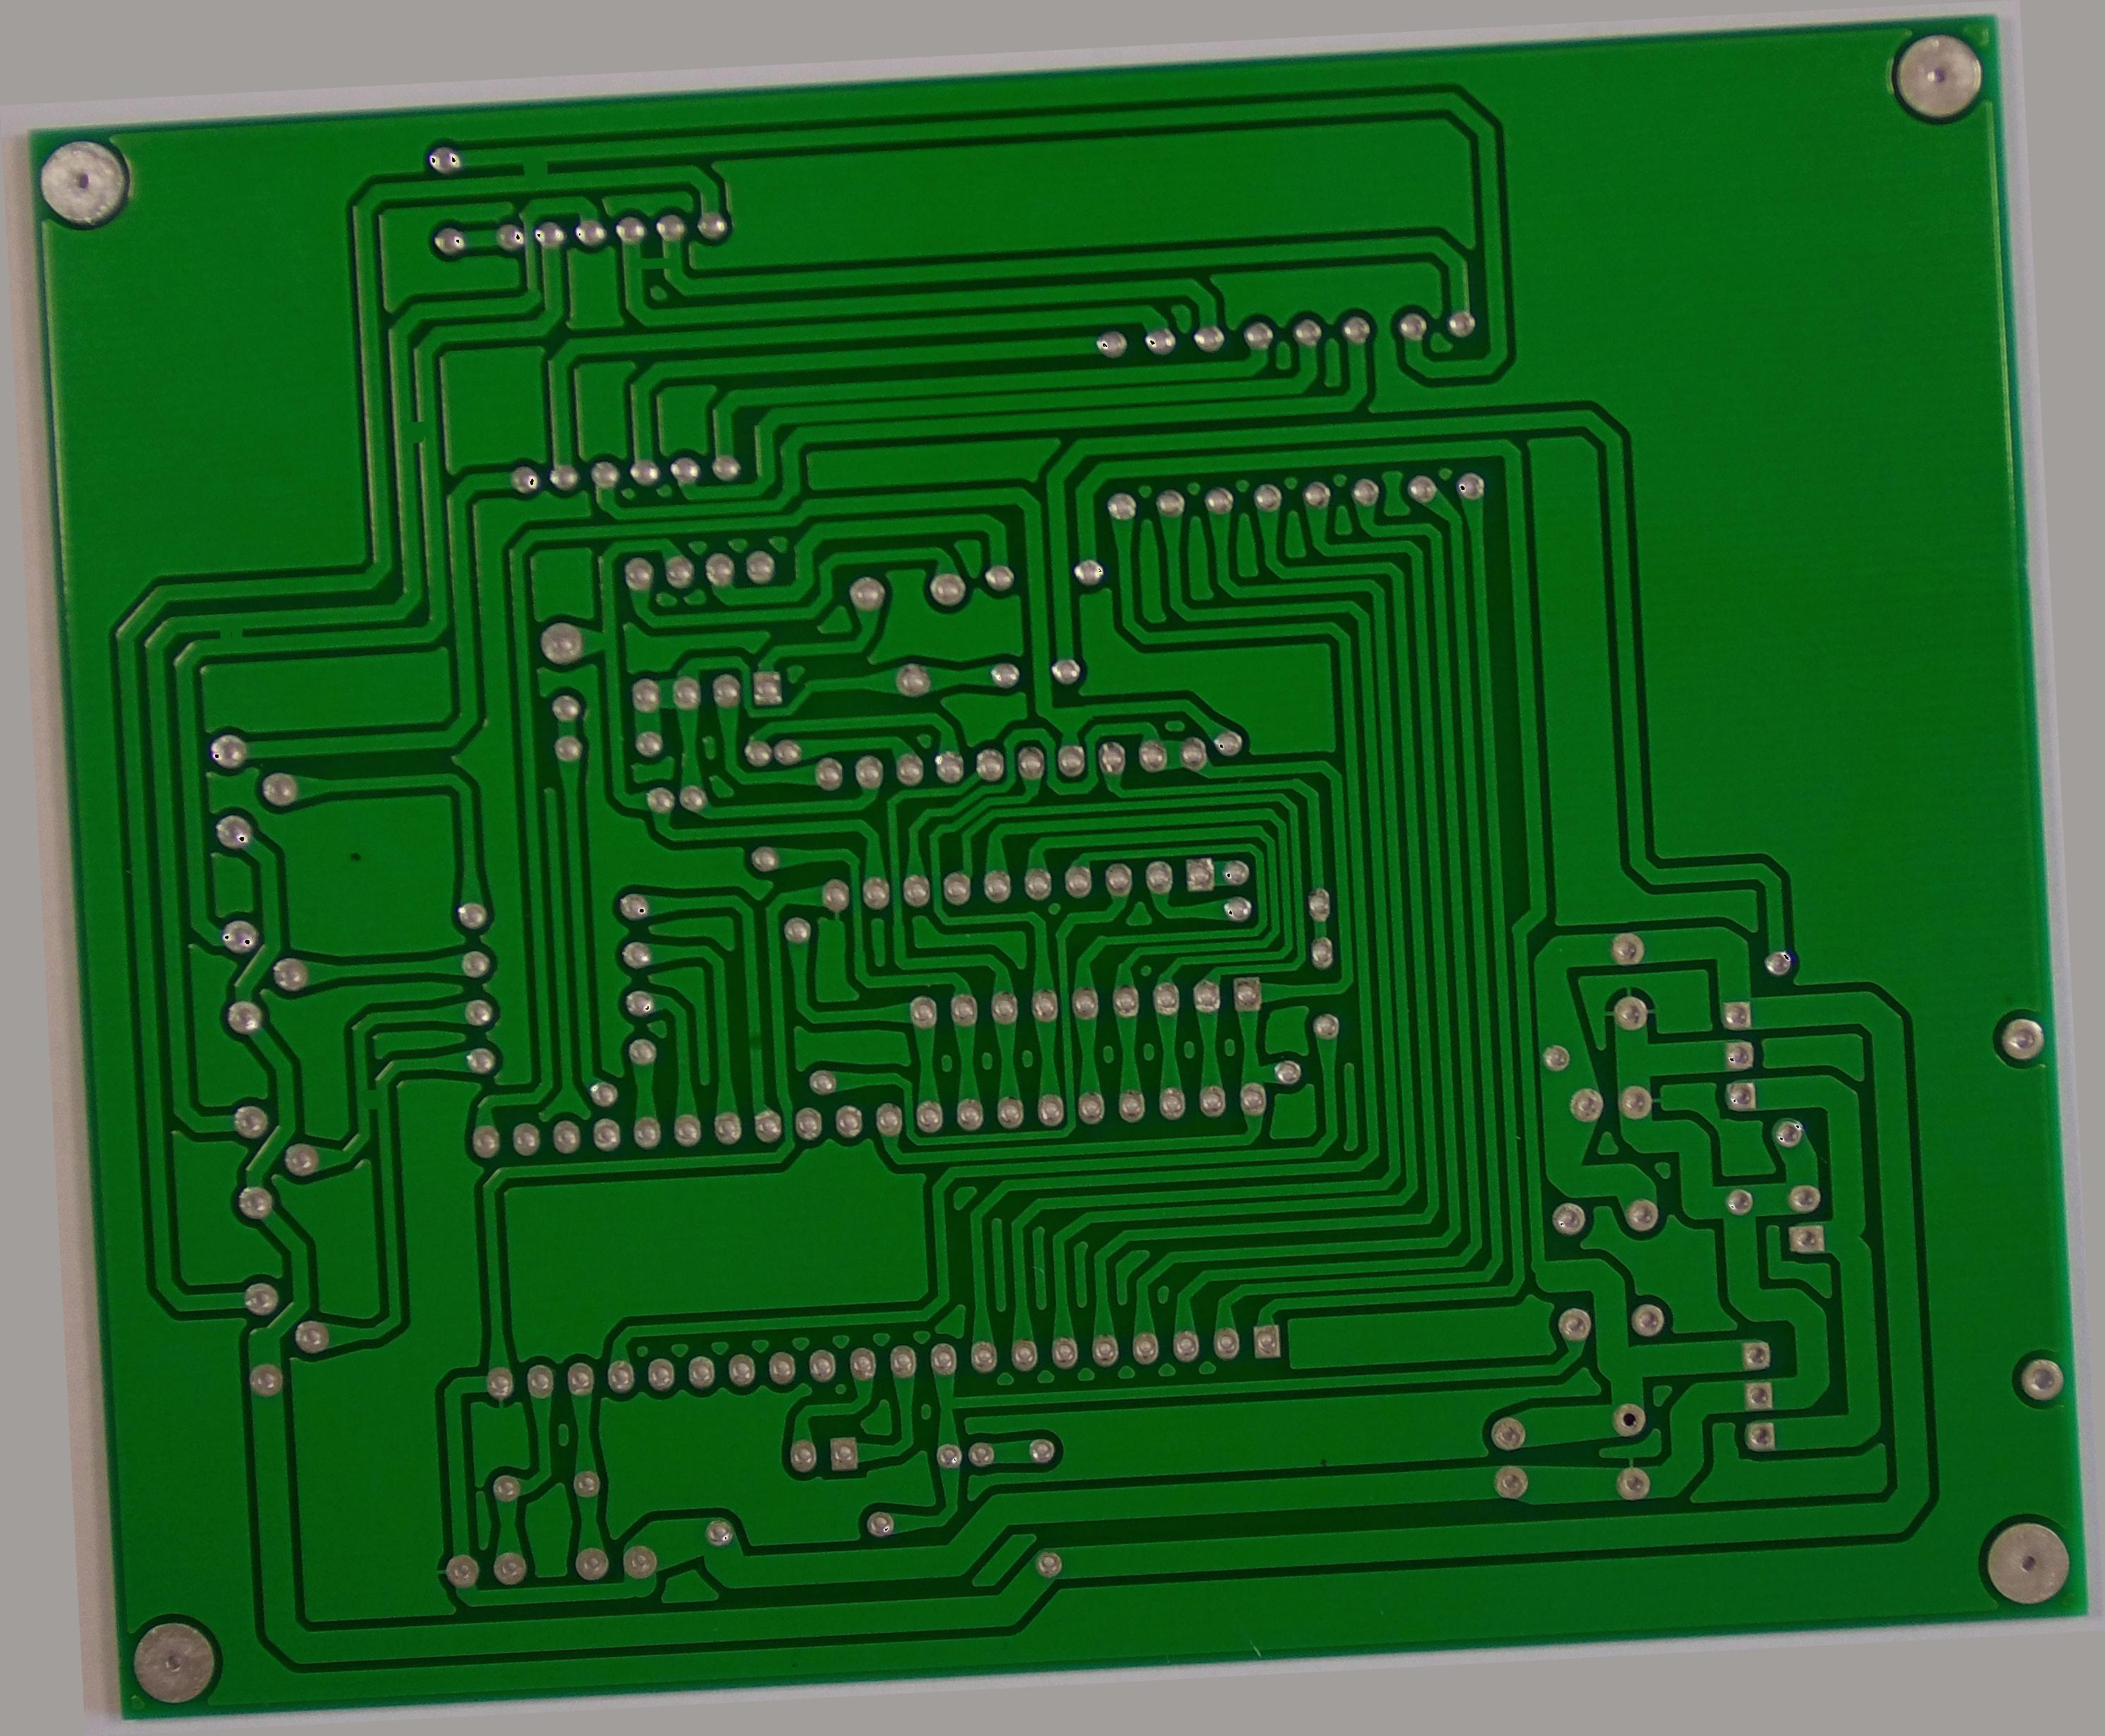short: (205, 603, 257, 661), (511, 140, 561, 194), (388, 406, 444, 455), (622, 247, 682, 288), (353, 1079, 392, 1119)
